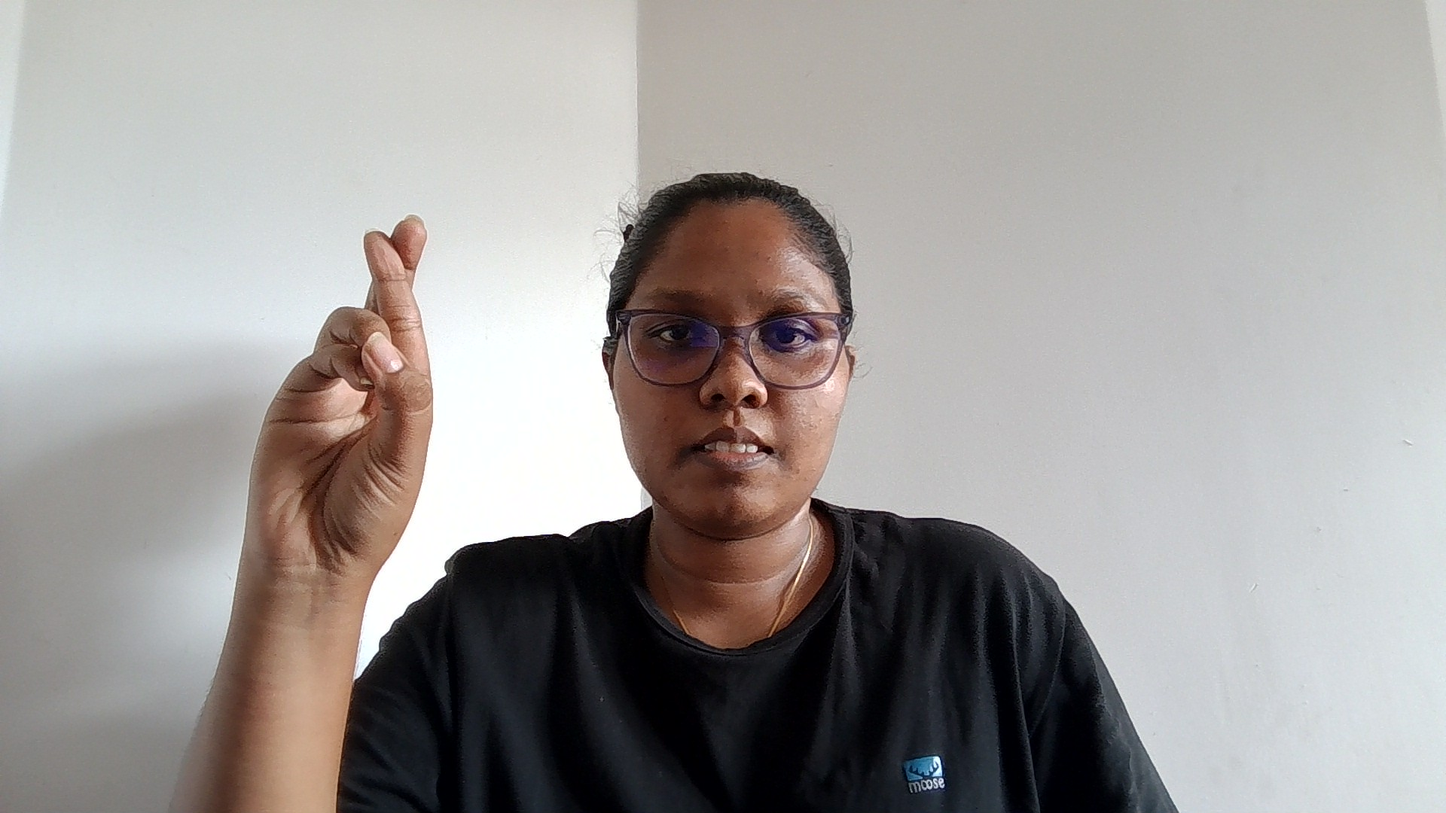Good_Luck: (149, 194, 504, 660)
